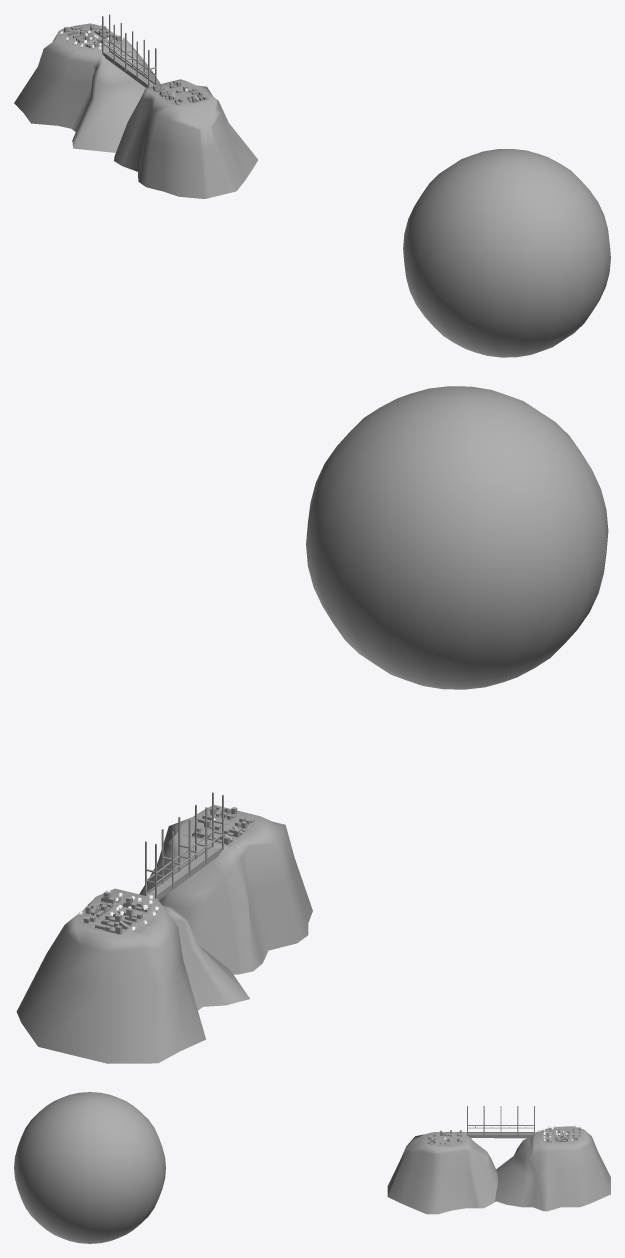
The model's file is City.fbx.
The picture shows the model from 3 angles, top to bottom: view 1: azimuth 30°, elevation 25°; view 2: azimuth 150°, elevation 25°; view 3: azimuth 270°, elevation 25°; orthographic projection. The views are drawn at different scales.
Parts seen in each view (by area): view 1: Sun1, polySurface1; view 2: Sun1, polySurface1; view 3: Sun1, polySurface1.
Boxes of the visible parts, box(x1,y1,x2,y2) form: Sun1: box(403, 149, 610, 357); polySurface1: box(14, 14, 257, 198); Sun1: box(306, 386, 608, 689); polySurface1: box(16, 792, 312, 1063); Sun1: box(14, 1092, 165, 1243); polySurface1: box(387, 1106, 610, 1214).
Size of the model in its own units: 1580 by 1182 by 4640.
